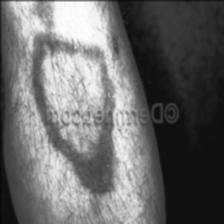Unclassified: (30, 42, 108, 107), (48, 125, 114, 192), (30, 0, 55, 28), (111, 36, 117, 53)
